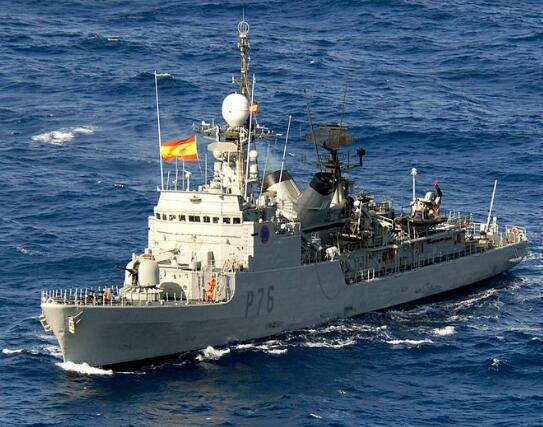warship: (34, 20, 531, 381)
